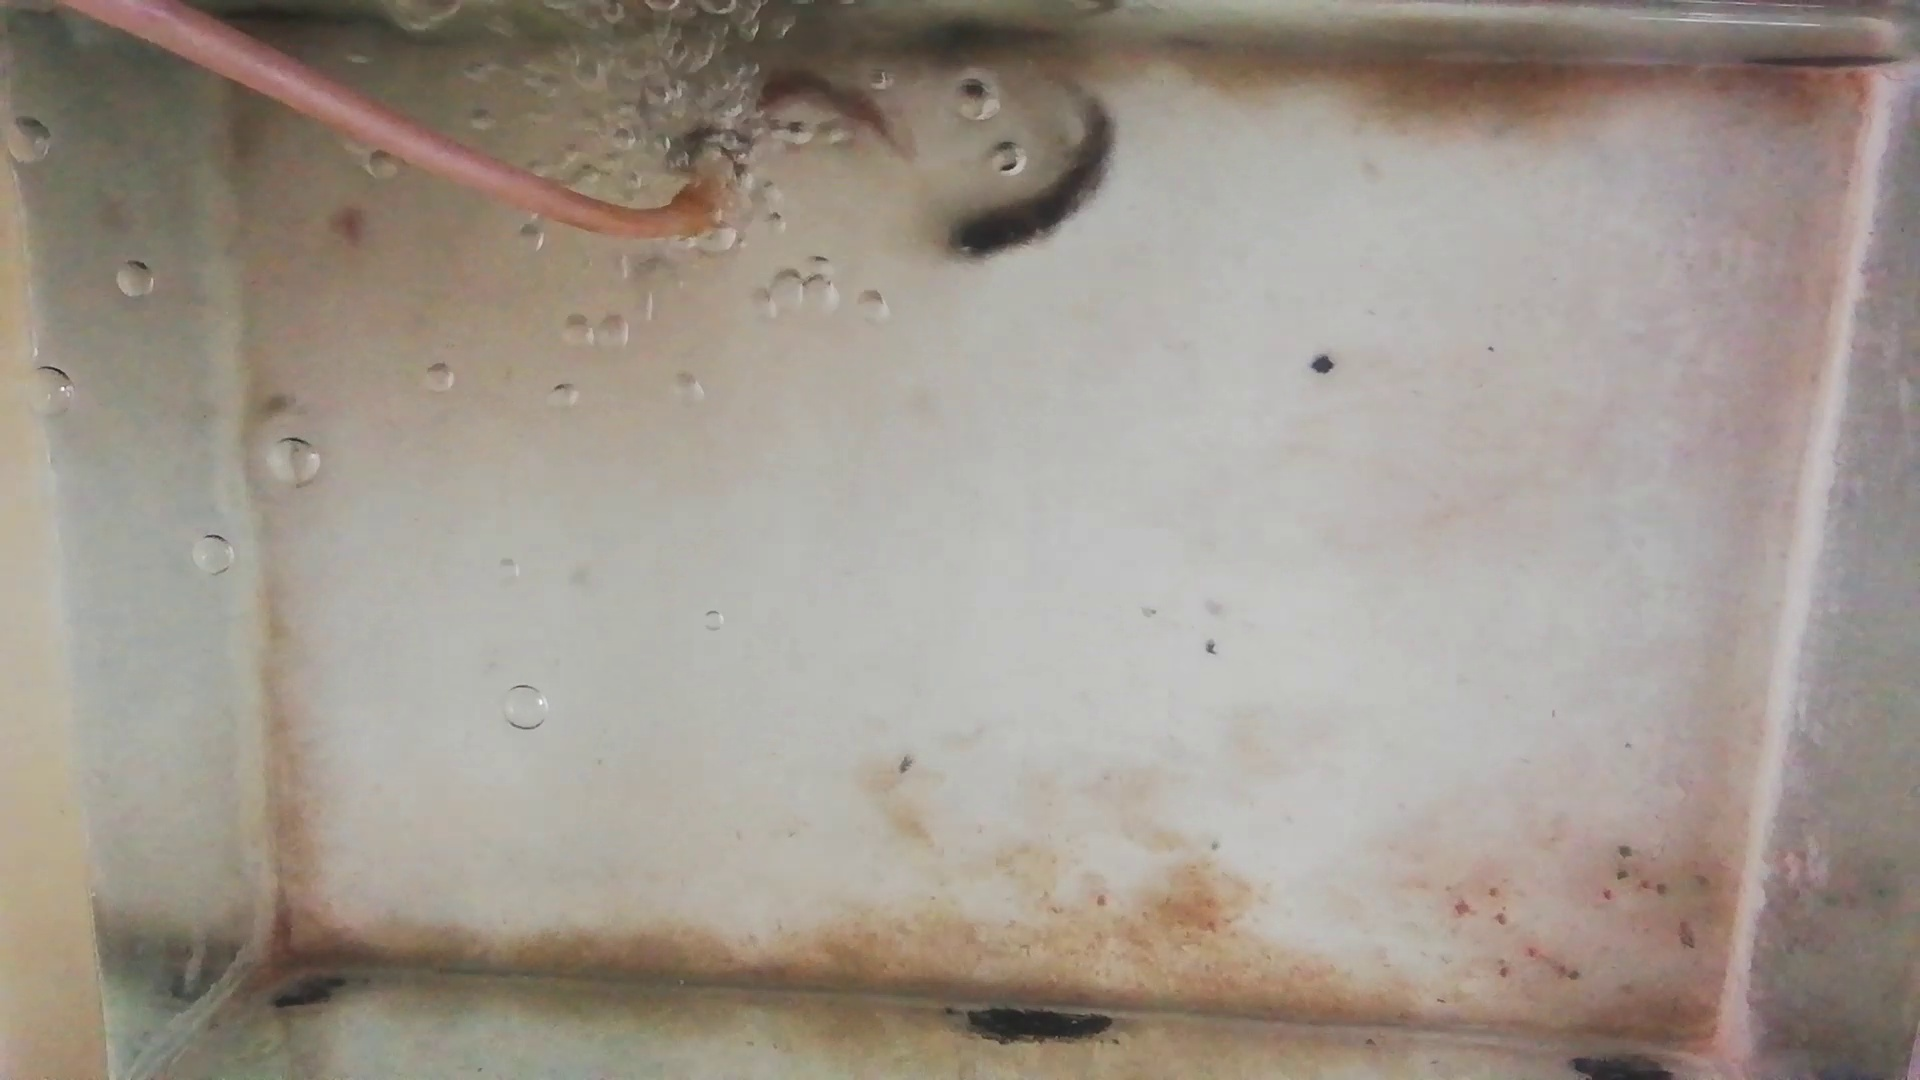fish: (945, 102, 1116, 260), (750, 59, 901, 144)
